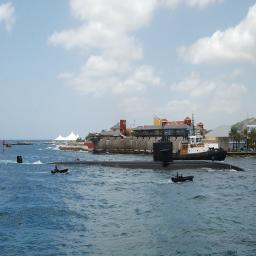submarine: (11, 141, 249, 174)
